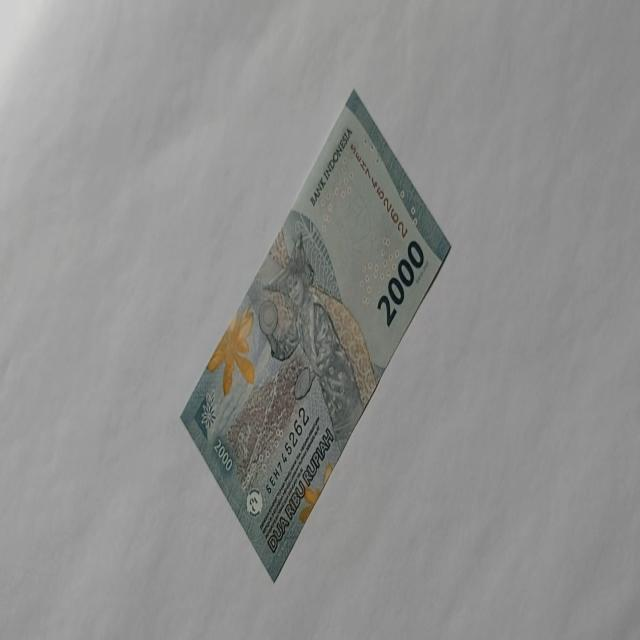dua ribu rupiah: (180, 88, 452, 582), (257, 228, 373, 452), (204, 303, 256, 397)
